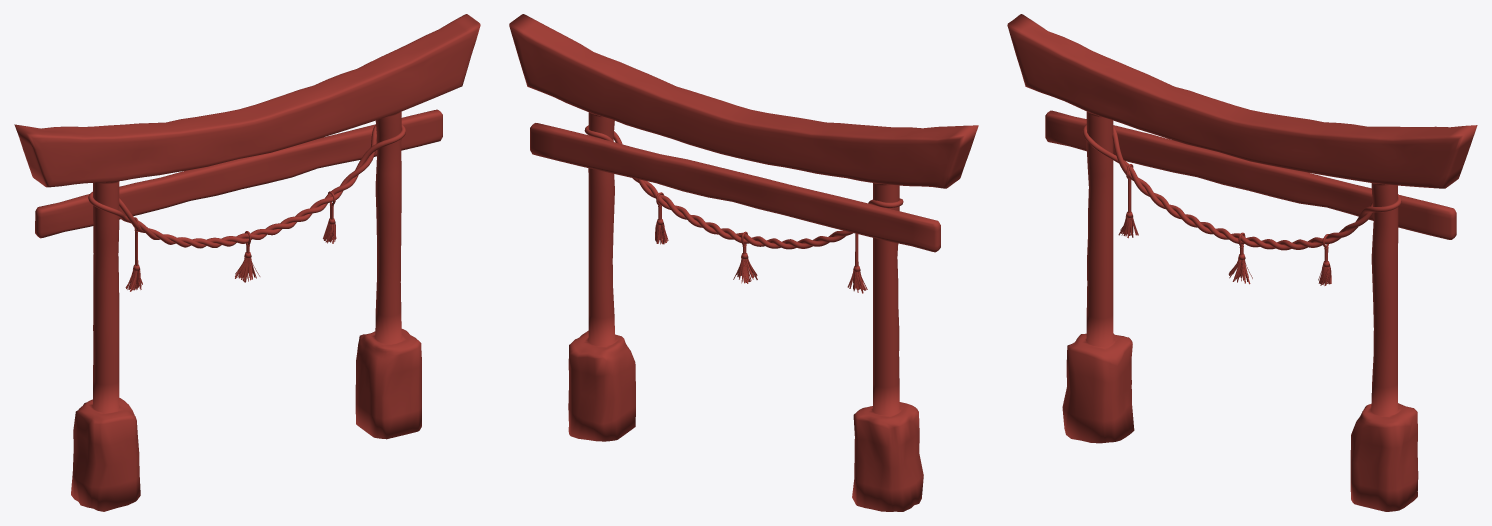
File: AsianGate.fbx
3 renders of one model, left to right at view 1: azimuth 30°, elevation 25°; view 2: azimuth 150°, elevation 25°; view 3: azimuth 330°, elevation 25°, orthographic.
Parts seen in each view (by area): view 1: AsianGate; view 2: AsianGate; view 3: AsianGate.
Part boxes in pixels (box(x1,y1,x2,y2)): AsianGate: box(14, 14, 480, 511); AsianGate: box(509, 14, 978, 511); AsianGate: box(1007, 14, 1477, 511).
Size of the model in its own units: 609 by 501 by 74.79.
